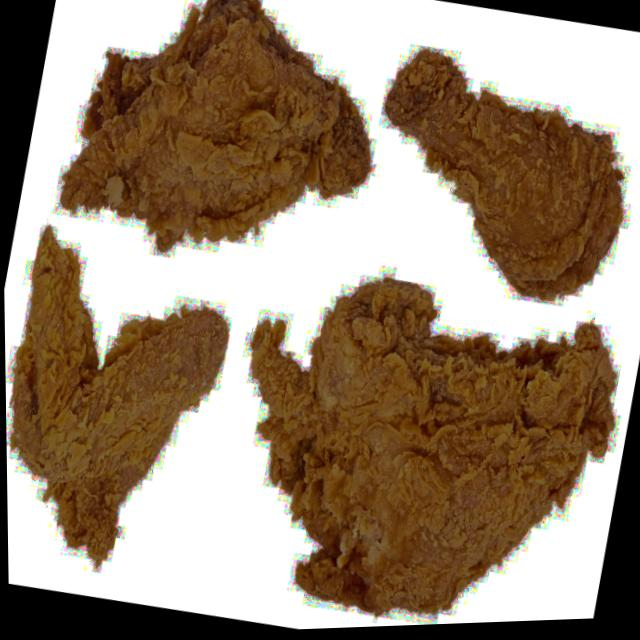fried_chicken: (204, 247, 636, 633), (50, 0, 401, 294), (3, 219, 248, 588), (352, 36, 640, 318)
